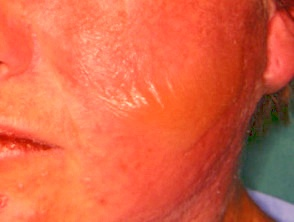SJS-TEN: (93, 33, 274, 177)
